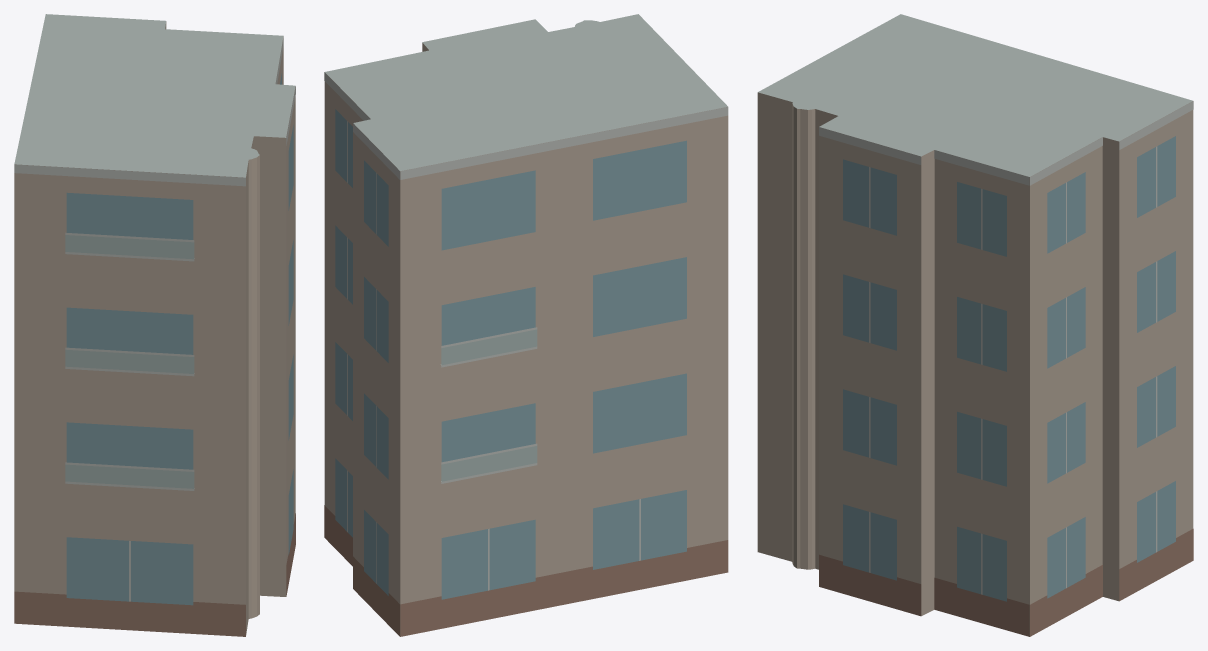
Rendered from survey-upis-32515290.glb.
The picture shows the model from 3 angles, left to right: view 1: azimuth 30°, elevation 25°; view 2: azimuth 150°, elevation 25°; view 3: azimuth 270°, elevation 25°; orthographic projection.
Parts seen in each view (by area): view 1: survey-upis-32515290.tmp; view 2: survey-upis-32515290.tmp; view 3: survey-upis-32515290.tmp.
Boxes of the visible parts, x1,y1,x2,y2 form: survey-upis-32515290.tmp: (14,14,295,636); survey-upis-32515290.tmp: (324,14,728,636); survey-upis-32515290.tmp: (757,14,1193,636).
Size of the model in its own units: 9.74 by 12.8 by 11.
